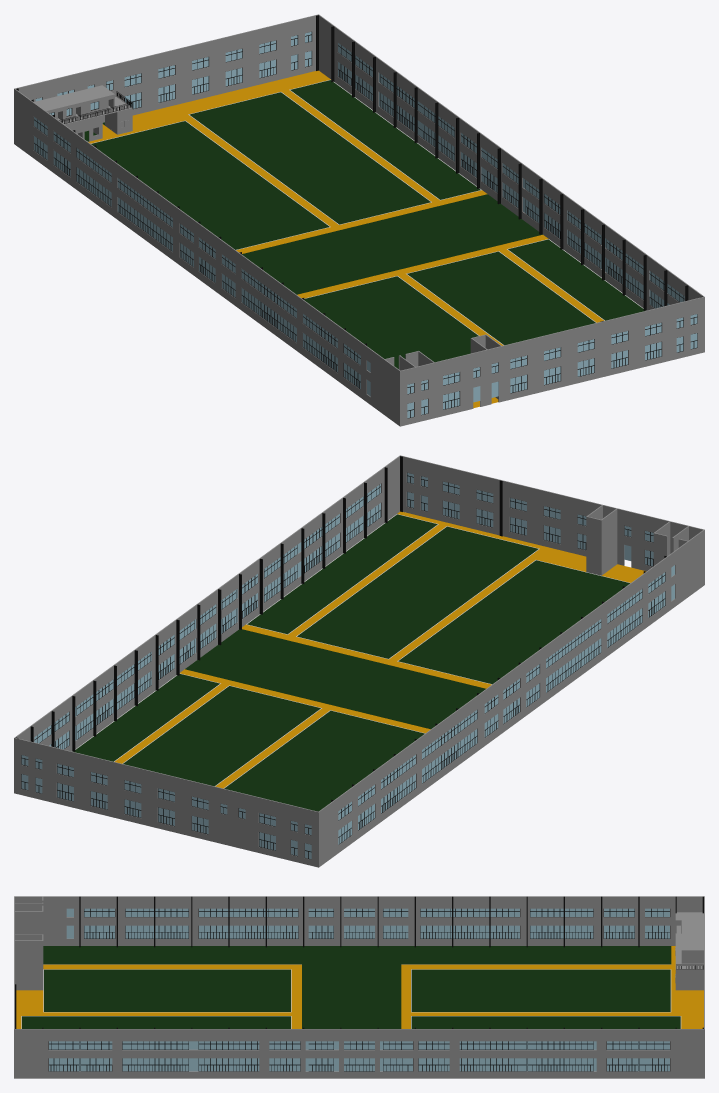
Rendered from Floor01.glb.
3 renders of one model, top to bottom at view 1: azimuth 30°, elevation 25°; view 2: azimuth 150°, elevation 25°; view 3: azimuth 270°, elevation 25°, orthographic. The views are drawn at different scales.
Visible parts, largest first — view 1: F01.1; view 2: F01.1; view 3: F01.1.
Boxes of the visible parts, x1,y1,x2,y2 form: F01.1: (14, 14, 704, 426); F01.1: (14, 455, 704, 867); F01.1: (14, 896, 704, 1078).
Bounding box in the file's own units: 549 × 95.25 × 1205.
